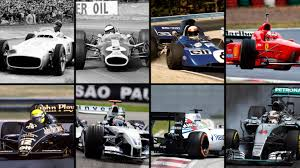FormulaOneCar: (225, 85, 300, 166), (75, 97, 149, 163), (150, 102, 225, 163), (1, 99, 74, 161)
